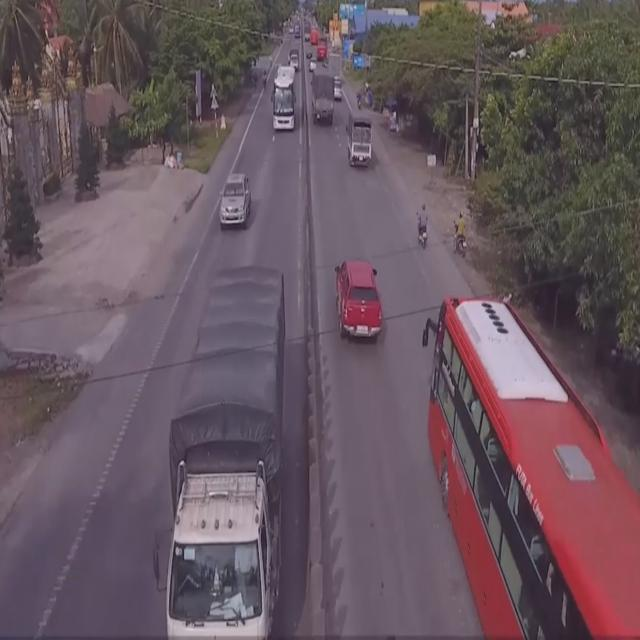bus: (418, 291, 638, 635), (270, 66, 297, 134)
car: (334, 256, 384, 343), (219, 171, 251, 231)
motorbike: (416, 204, 432, 252), (454, 212, 466, 258)
truck: (158, 266, 287, 640), (309, 65, 336, 126), (346, 111, 373, 168)
